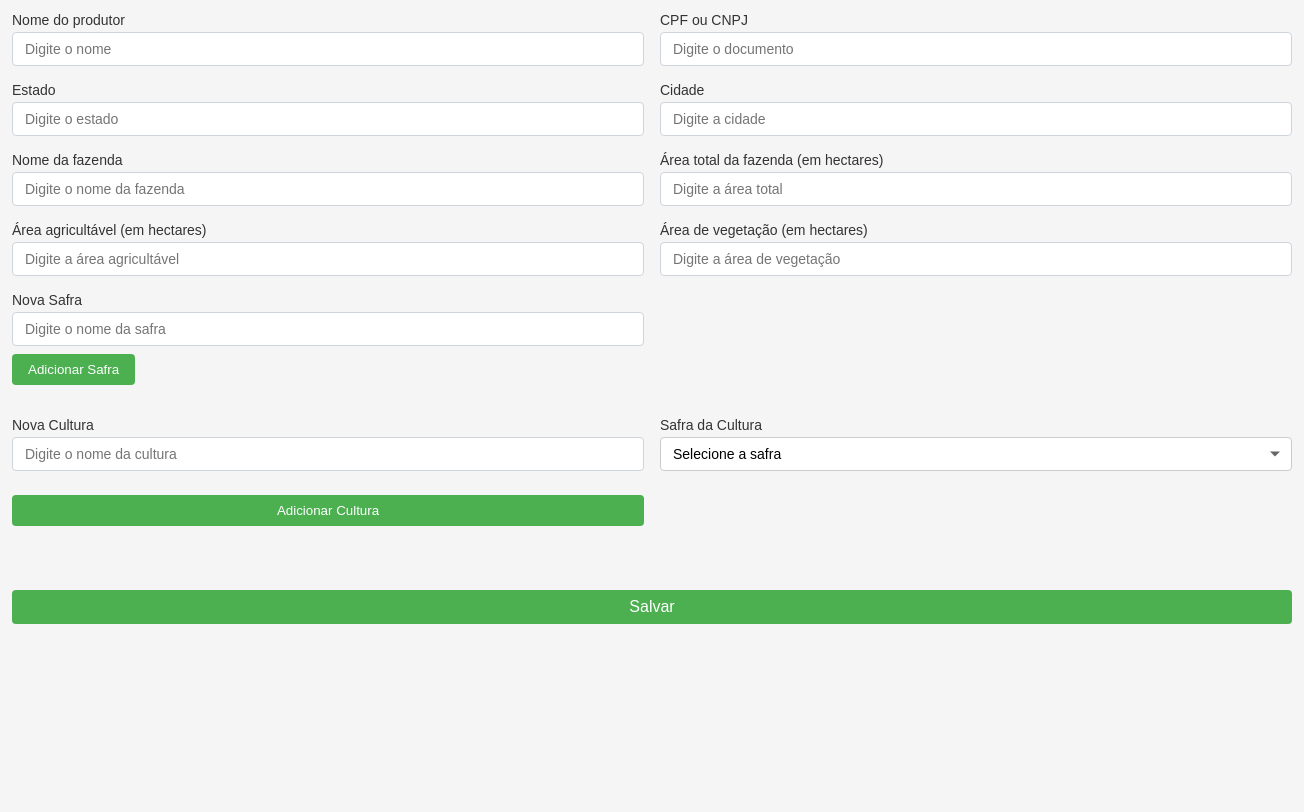
Test case: ProducerForm › should show error for invalid CPF/CNPJ
Type "123" into the field with placeholder "Digite o documento" at (976, 49), box left=660, top=32, right=1292, bottom=66
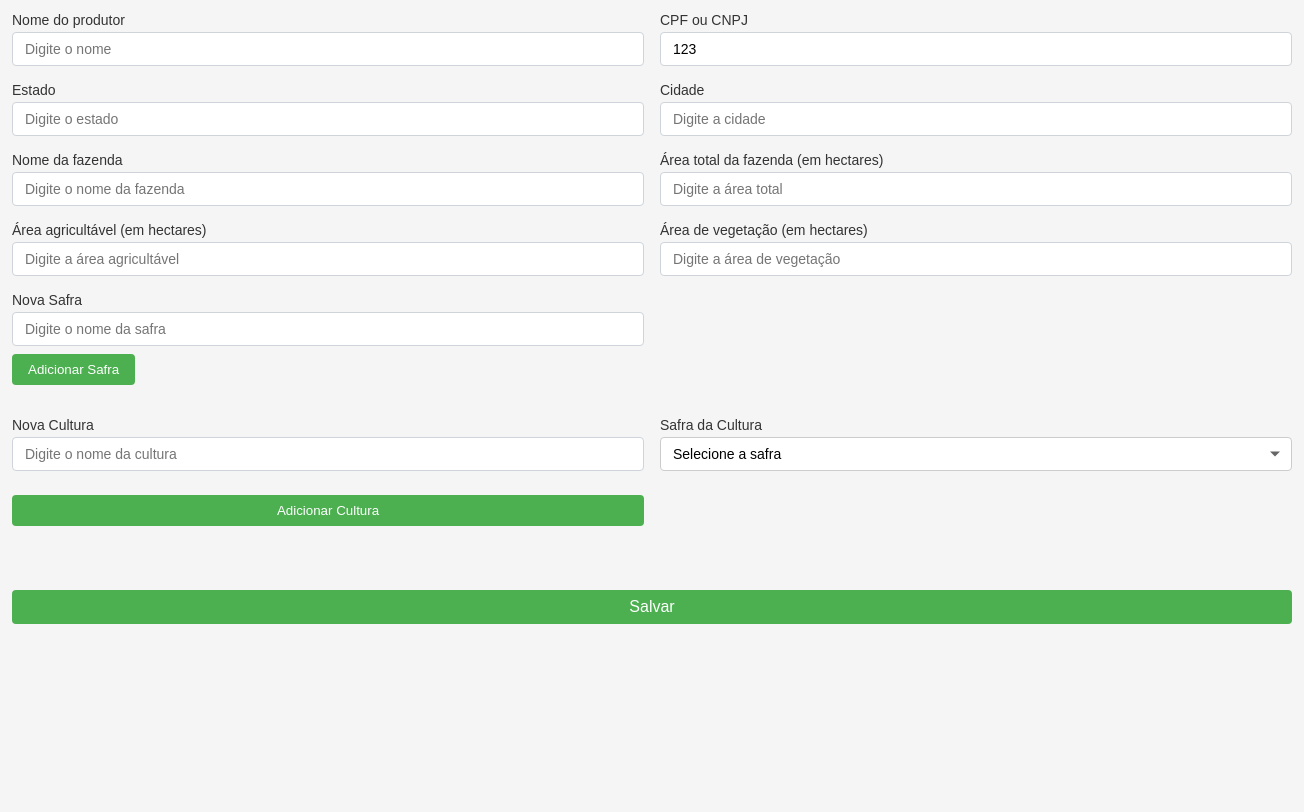
Click the button "Salvar" at (652, 607), box left=12, top=590, right=1292, bottom=624
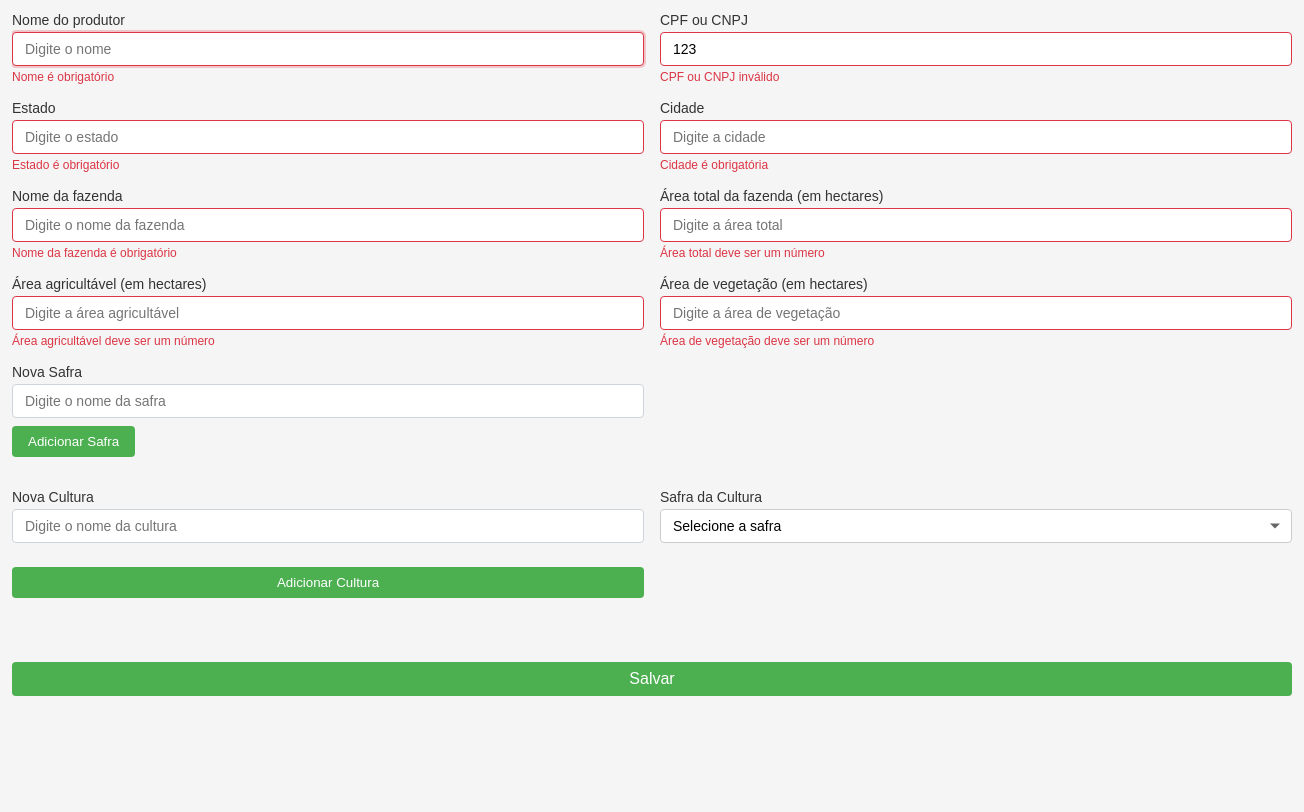
Now the text "CPF ou CNPJ inválido" is shown, box left=660, top=70, right=779, bottom=84
